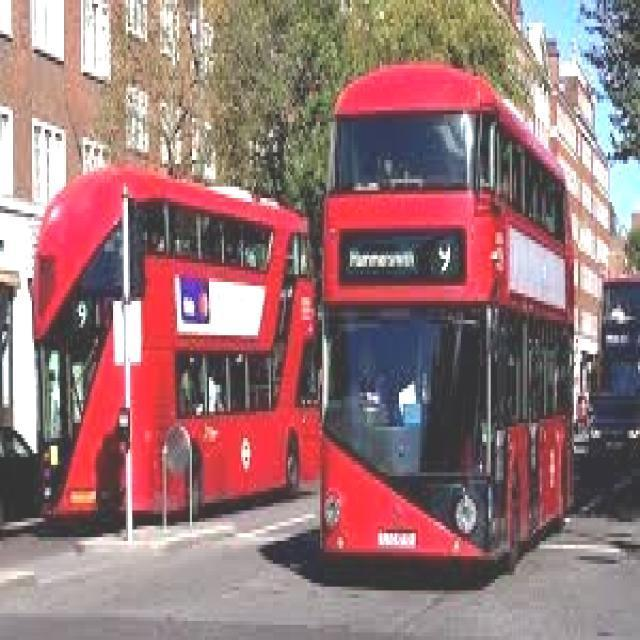Bus: (307, 35, 585, 589), (39, 134, 329, 572)
